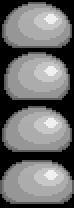slime: (1, 103, 73, 154), (0, 0, 73, 49), (2, 50, 72, 100), (0, 158, 74, 205)
